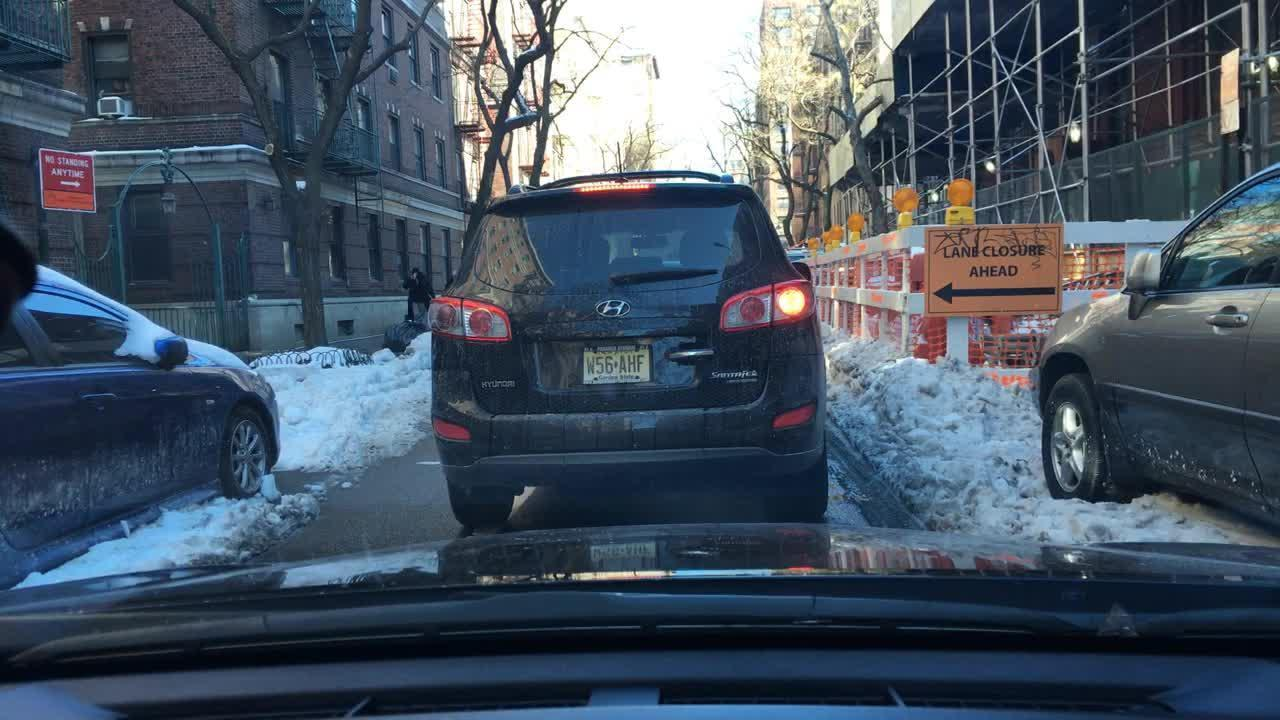Hyundai: (573, 285, 646, 327)
